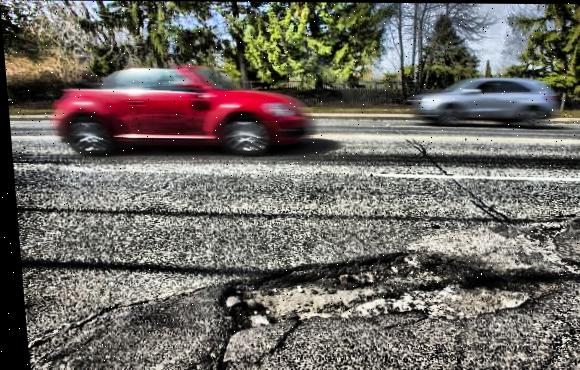pothole: (208, 245, 554, 334)
